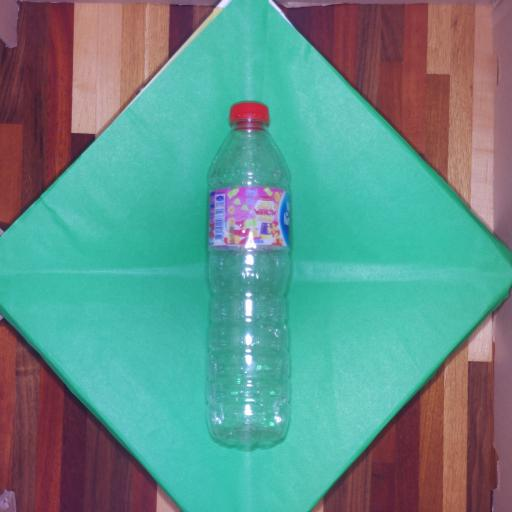bottle: (184, 89, 306, 459)
